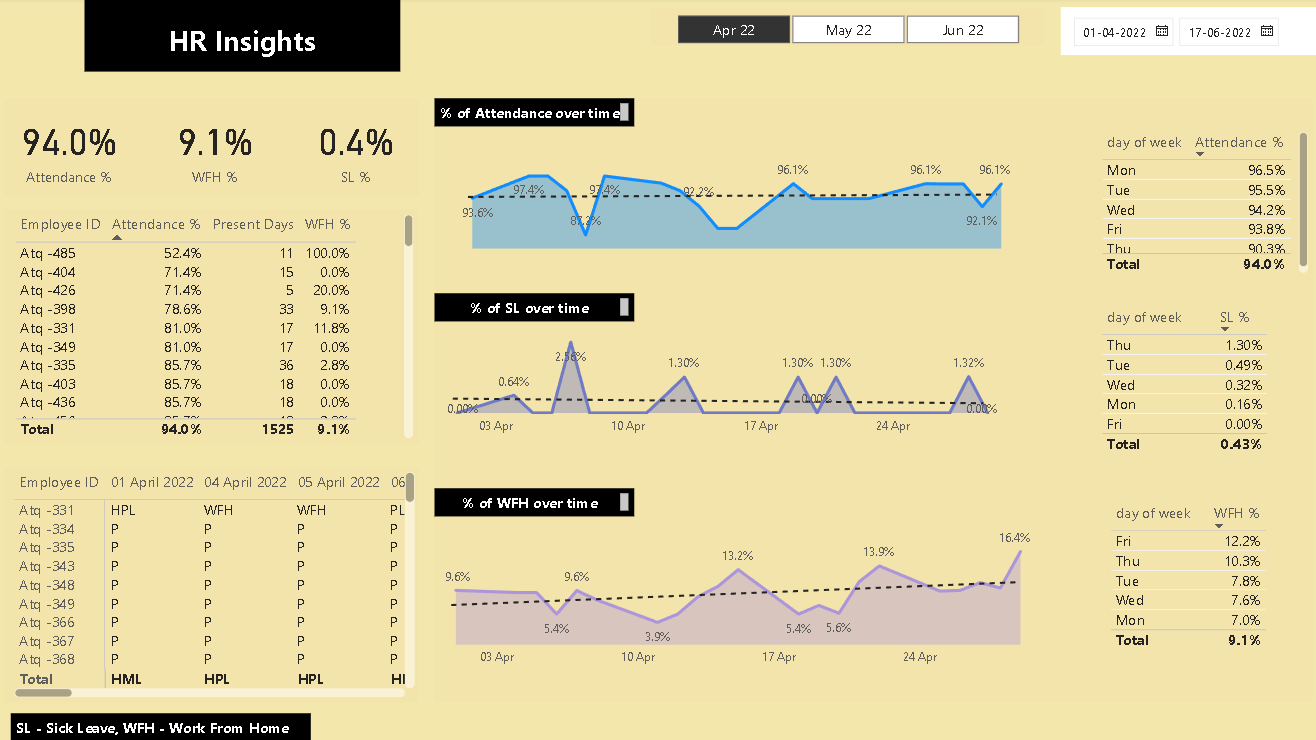

The dashboard page shown, as its layout file describes it:
{"tool":"powerbi","page":{"name":"Presence Insights","canvas":[1280,720],"ordinal":0},"visuals":[{"type":"textbox","box":[7.8,205.6,399.9,225.5],"z":0},{"type":"textbox","box":[7.8,453.3,399.8,227.6],"z":1000},{"type":"textbox","box":[422.3,97.9,848.1,582.3],"z":2000},{"type":"textbox","box":[7.8,98,399.9,95.4],"z":3000},{"type":"tableEx","fields":{"Values":["Final Data.Employee ID","Measures (2).Attendace %","Measures (2).Present Days","Measures (2).WFH %"]},"box":[12.6,205.2,394.9,225.7],"z":4000},{"type":"slicer","fields":{"Values":["Final Data.Date"]},"box":[1026.7,10,253.3,46.7],"z":5000},{"type":"slicer","fields":{"Values":["Final Data.MMM YY"]},"box":[630.4,10.5,379.5,35.8],"z":6000},{"type":"areaChart","fields":{"Category":["Final Data.MMM YY","Final Data.Date"],"Y":["Measures (2).WFH %"]},"box":[420.7,502.3,589,153.5],"z":7000},{"type":"areaChart","fields":{"Category":["Final Data.WeekNo","Final Data.Date"],"Y":["Measures (2).Attendace %"]},"box":[444.1,144.9,540.4,103.2],"z":8000},{"type":"card","fields":{"Values":["Measures (2).Attendace %"]},"box":[7.8,98,124,96.3],"z":9000},{"type":"card","fields":{"Values":["Measures (2).WFH %"]},"box":[141.4,98,138.8,96.3],"z":10000},{"type":"areaChart","fields":{"Category":["Final Data.MMM YY","Final Data.Date"],"Y":["Measures (2).SL %"]},"box":[422.5,307.1,556,124],"z":11000},{"type":"card","fields":{"Values":["Measures (2).SL %"]},"box":[286.3,97.2,121.4,96.3],"z":13000},{"type":"textbox","box":[85,0,305,71.7],"z":14000},{"type":"textbox","box":[422.4,98.2,192.5,27.5],"z":15000},{"type":"textbox","box":[422.5,286.3,192.6,26.9],"z":16000},{"type":"textbox","box":[422.1,473.7,192.6,27.2],"z":17000},{"type":"pivotTable","fields":{"Rows":["Final Data.Employee ID"],"Columns":["Final Data.Date"],"Values":["Min(Final Data.Value)"]},"box":[11.7,453.3,395.9,227.6],"z":18000},{"type":"textbox","box":[13.6,691.6,289.8,28.2],"z":19000},{"type":"tableEx","fields":{"Values":["Final Data.day of week","Measures (2).Attendace %"]},"box":[1060.9,125.8,209.9,145.7],"z":20000},{"type":"tableEx","fields":{"Values":["Final Data.day of week","Measures (2).SL %"]},"box":[1060.9,294.1,191.7,167.4],"z":21000},{"type":"tableEx","fields":{"Values":["Final Data.day of week","Measures (2).WFH %"]},"box":[1068.7,483.2,170,167.4],"z":22000}]}

Visuals, with their boxes in screenshot pixels (x1, y1, x2, y2), scaled from the page's 1280x720 canvas onto the 1316x740 screenshot:
textbox: x1=8 y1=211 x2=419 y2=443
textbox: x1=8 y1=466 x2=419 y2=700
textbox: x1=434 y1=101 x2=1306 y2=699
textbox: x1=8 y1=101 x2=419 y2=199
tableEx - Final Data.Employee ID x Measures (2).Attendace %: x1=13 y1=211 x2=419 y2=443
slicer - Final Data.Date: x1=1056 y1=10 x2=1315 y2=58
slicer - Final Data.MMM YY: x1=648 y1=11 x2=1038 y2=48
areaChart - Final Data.MMM YY x Final Data.Date: x1=433 y1=516 x2=1038 y2=674
areaChart - Final Data.WeekNo x Final Data.Date: x1=457 y1=149 x2=1012 y2=255
card - Measures (2).Attendace %: x1=8 y1=101 x2=136 y2=200
card - Measures (2).WFH %: x1=145 y1=101 x2=288 y2=200
areaChart - Final Data.MMM YY x Final Data.Date: x1=434 y1=316 x2=1006 y2=443
card - Measures (2).SL %: x1=294 y1=100 x2=419 y2=199
textbox: x1=87 y1=0 x2=401 y2=74
textbox: x1=434 y1=101 x2=632 y2=129
textbox: x1=434 y1=294 x2=632 y2=322
textbox: x1=434 y1=487 x2=632 y2=515
pivotTable - Final Data.Employee ID x Final Data.Date: x1=12 y1=466 x2=419 y2=700
textbox: x1=14 y1=711 x2=312 y2=739
tableEx - Final Data.day of week x Measures (2).Attendace %: x1=1091 y1=129 x2=1307 y2=279
tableEx - Final Data.day of week x Measures (2).SL %: x1=1091 y1=302 x2=1288 y2=474
tableEx - Final Data.day of week x Measures (2).WFH %: x1=1099 y1=497 x2=1274 y2=669
